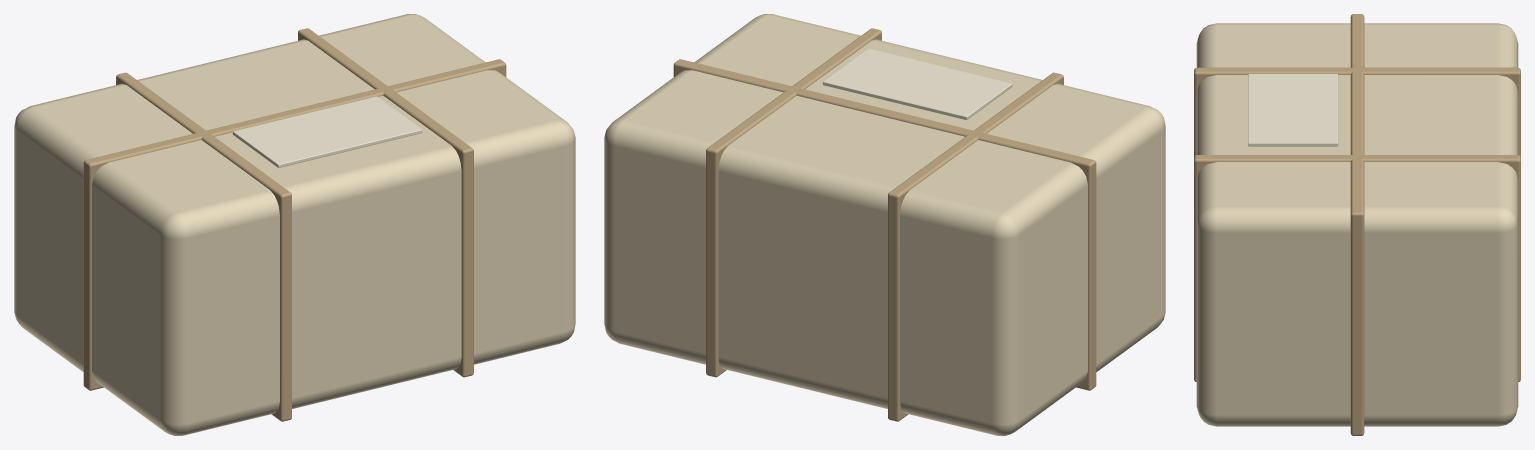
File: griffin-airmail-roost-and-posthouse-tied-mail-parcel-b5fcfa7d__30526.glb
3 renders of one model, left to right at view 1: azimuth 30°, elevation 25°; view 2: azimuth 150°, elevation 25°; view 3: azimuth 270°, elevation 25°, orthographic.
Parts seen in each view (by area): view 1: tied-mail-parcel; view 2: tied-mail-parcel; view 3: tied-mail-parcel.
Part boxes in pixels (x1,y1,x2,y2): tied-mail-parcel: (14,14,575,435); tied-mail-parcel: (604,14,1165,435); tied-mail-parcel: (1194,14,1520,435).
Size of the model in its own units: 0.354 by 0.188 by 0.244.
